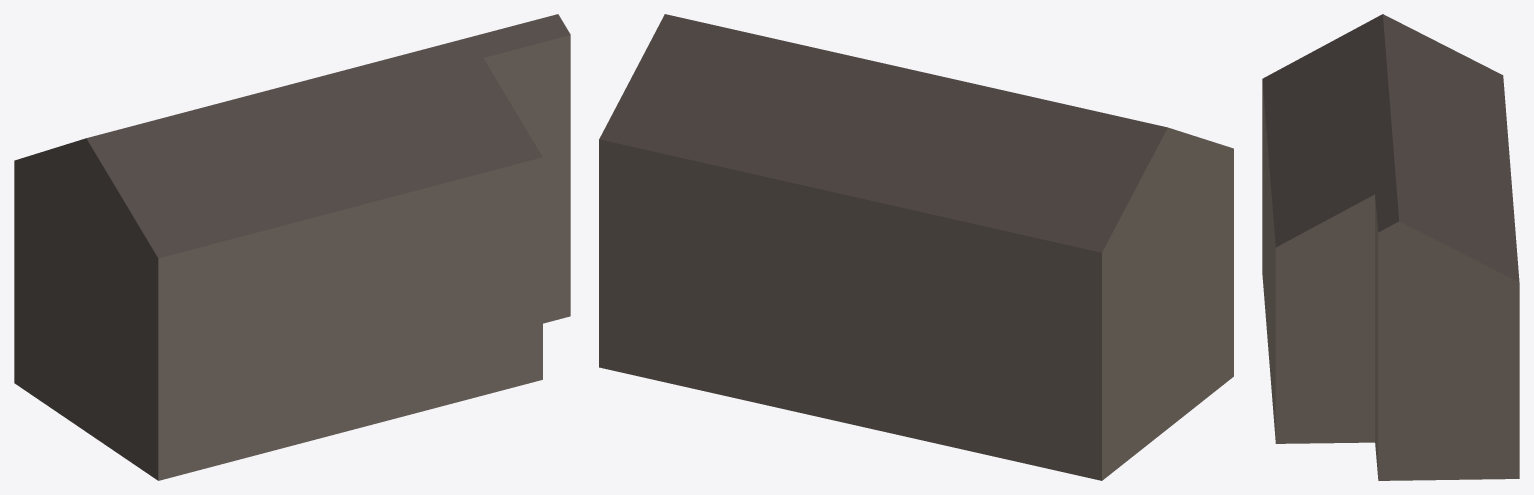
The picture shows the model from 3 angles, left to right: view 1: azimuth 30°, elevation 25°; view 2: azimuth 150°, elevation 25°; view 3: azimuth 270°, elevation 25°; orthographic projection. The views are drawn at different scales.
Parts seen in each view (by area): view 1: HP-w369317586; view 2: HP-w369317586; view 3: HP-w369317586.
Part boxes in pixels (box(x1,y1,x2,y2)): HP-w369317586: box(14, 14, 570, 480); HP-w369317586: box(599, 14, 1233, 480); HP-w369317586: box(1262, 14, 1519, 480).
Bounding box in the file's own units: 20.57 × 11.89 × 10.68.
